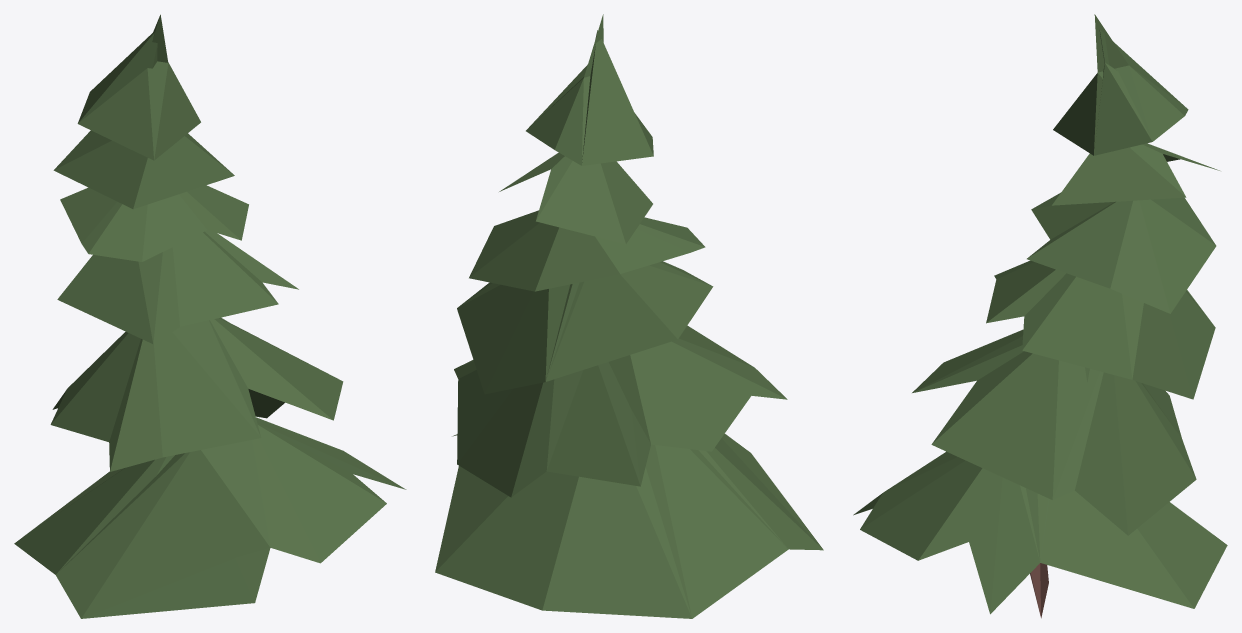
3 renders of one model, left to right at view 1: azimuth 30°, elevation 25°; view 2: azimuth 150°, elevation 25°; view 3: azimuth 270°, elevation 25°, orthographic. The views are drawn at different scales.
Parts seen in each view (by area): view 1: cylinder-025; view 2: cylinder-025; view 3: cylinder-025.
Boxes of the visible parts, bbox=[...] form: cylinder-025: bbox=[14, 14, 406, 618]; cylinder-025: bbox=[435, 14, 823, 618]; cylinder-025: bbox=[853, 14, 1227, 618].
Size of the model in its own units: 2.1 by 3.3 by 1.95.
